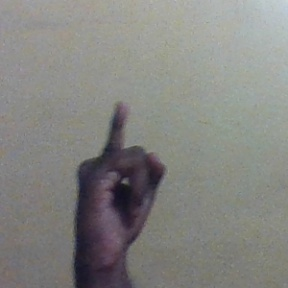I: (70, 100, 168, 260)
